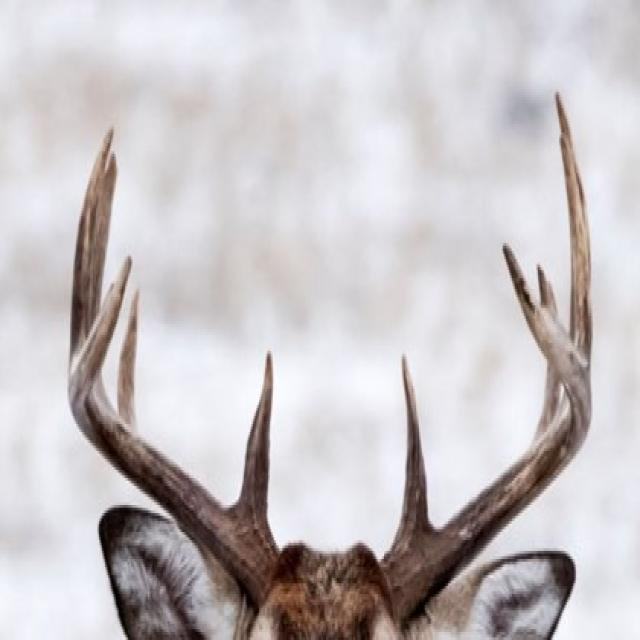L-F: (383, 239, 592, 621)
L-G1: (397, 351, 429, 539)
R-F: (67, 254, 278, 601)
R-G1: (238, 348, 273, 535)
R-G2: (118, 289, 140, 430)
R-G4: (69, 126, 114, 356)
